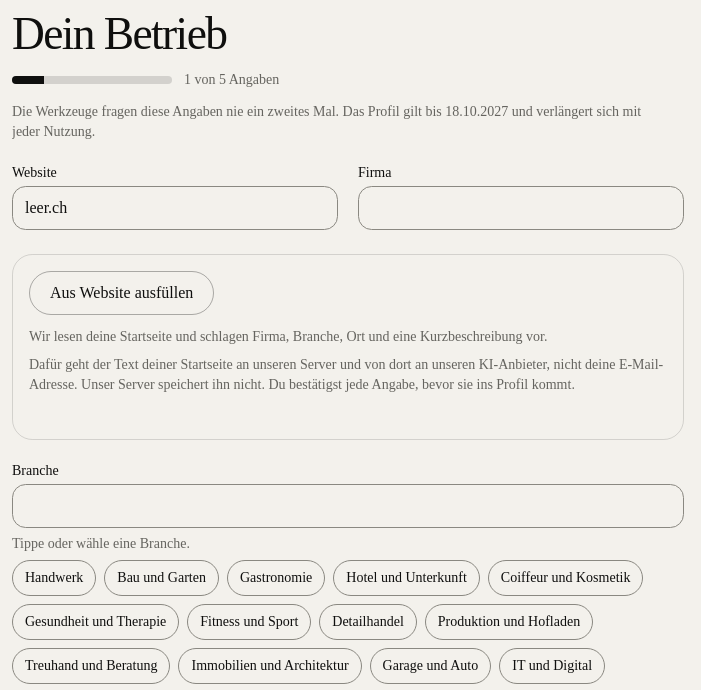
Test: Aus Website ausfüllen › zeigt bei einer Seite ohne lesbaren Text die Meldung des Servers und ändert nichts
What coordinates should you click on to do the following:
click the button "Aus Website ausfüllen"
I would click on:
 (122, 293)
Its box is [29, 271, 214, 315].
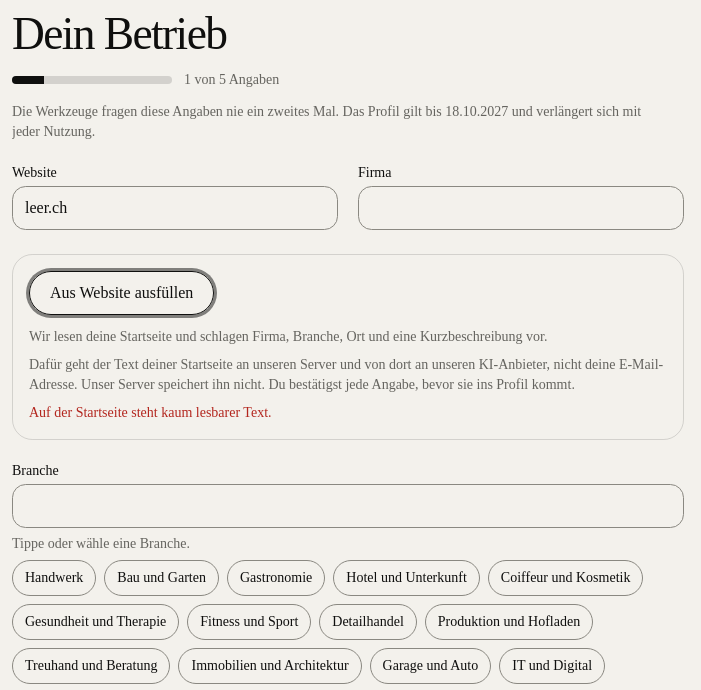
Result: the text "Auf der Startseite steht kaum lesbarer Text." is shown at [29, 405, 272, 420]
